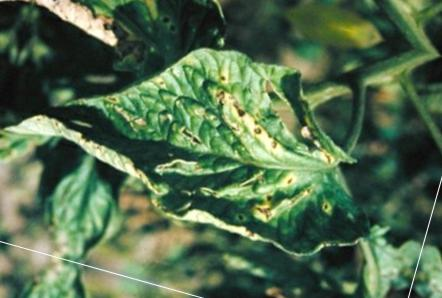Tomato Septoria leaf spot: (0, 2, 416, 280)
